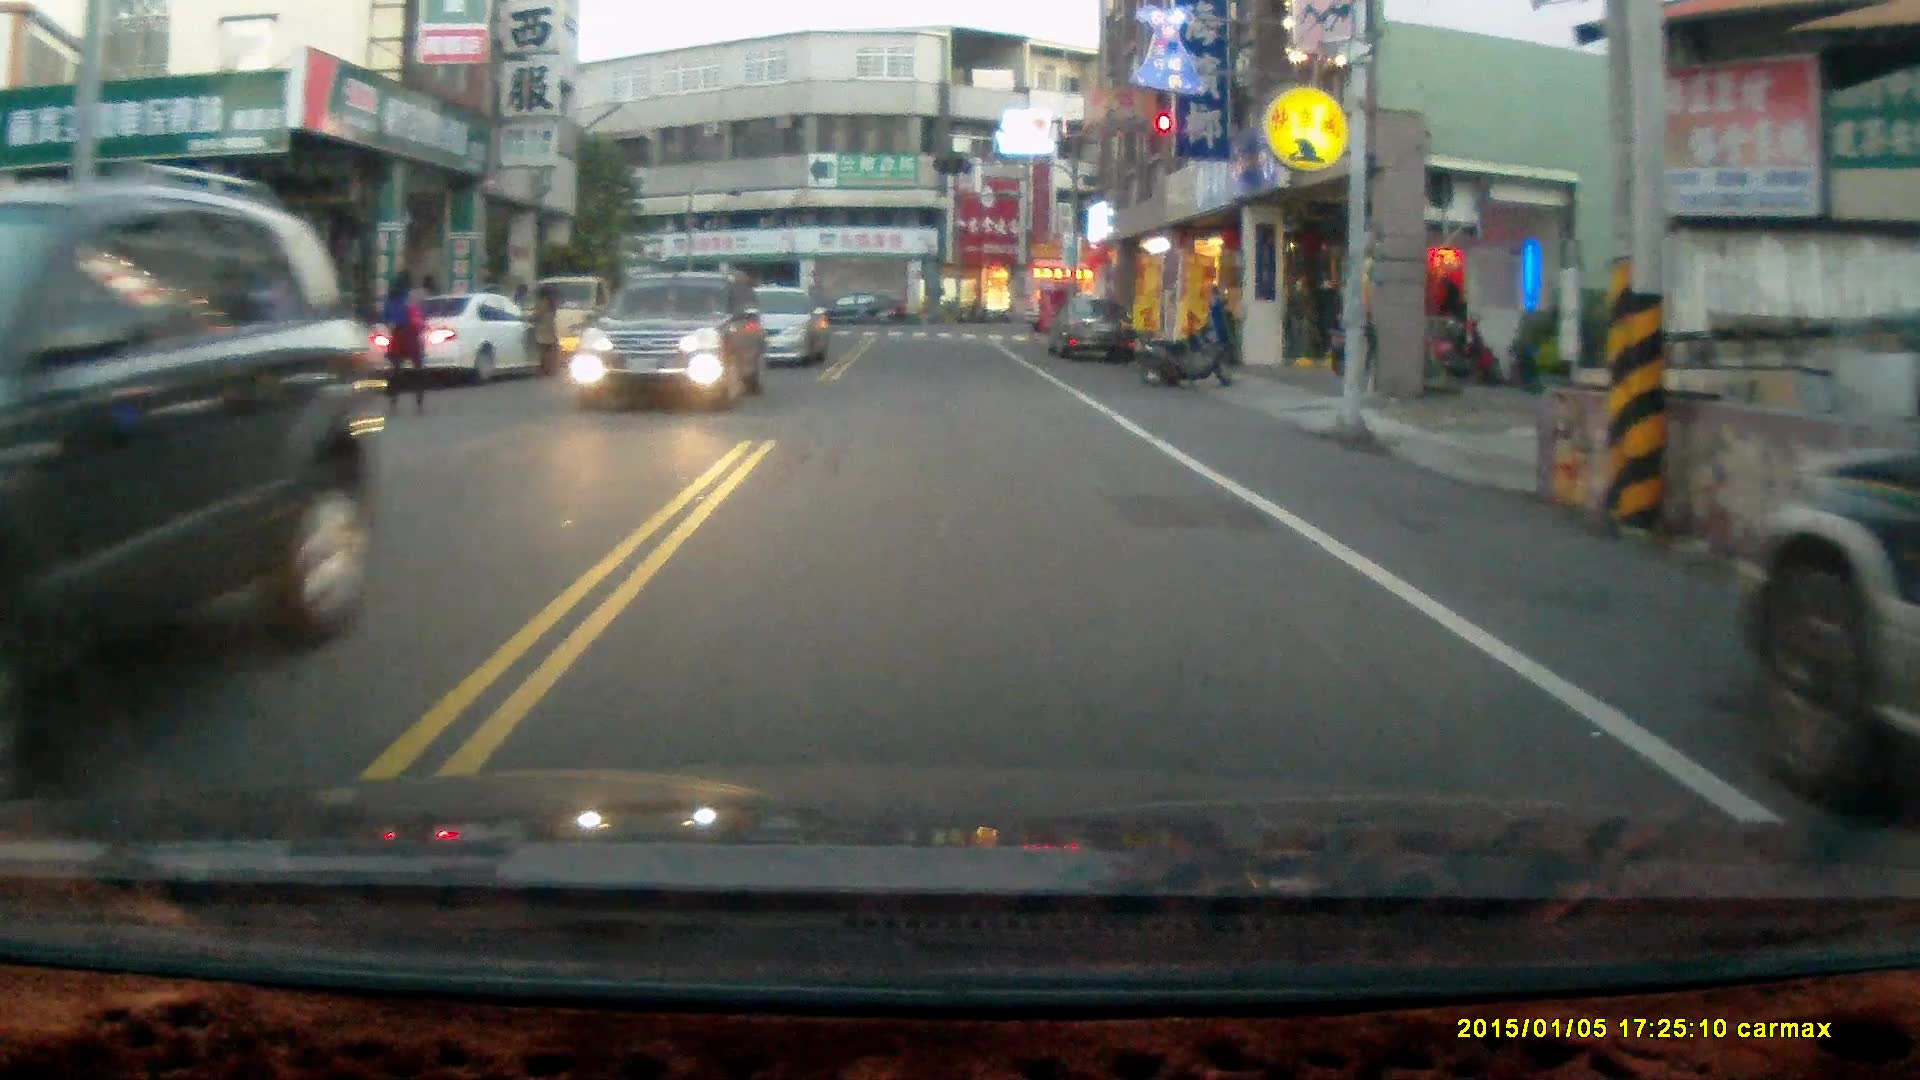pedestrian: (383, 267, 425, 418), (520, 279, 556, 378)
vehicle: (1, 157, 380, 749), (584, 266, 771, 411), (370, 289, 564, 388), (709, 281, 833, 366), (1046, 296, 1139, 366), (809, 290, 915, 329)
